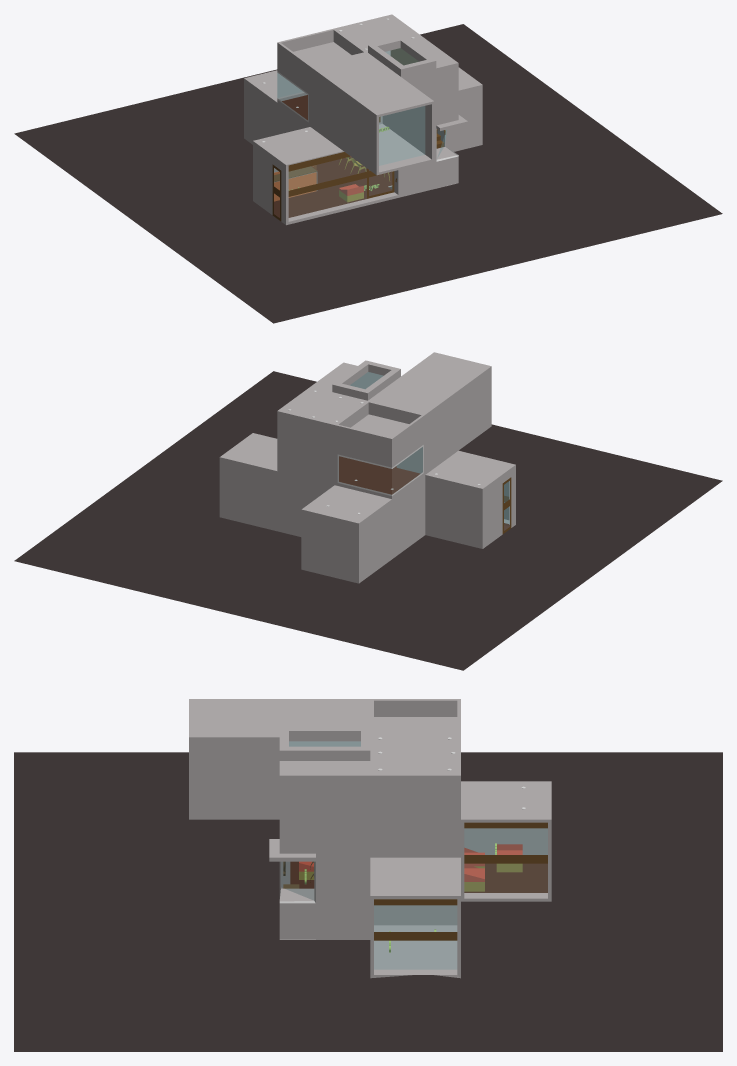
The model's file is simple_box_house.glb.
3 views of the same model, one above another, from view 1: azimuth 30°, elevation 25°; view 2: azimuth 150°, elevation 25°; view 3: azimuth 270°, elevation 25° (orthographic). The views are drawn at different scales.
Parts seen in each view (by area): view 1: Cube.001; view 2: Cube.001; view 3: Cube.001.
Part boxes in pixels (bbox=[...]): Cube.001: bbox=[14, 14, 722, 323]; Cube.001: bbox=[14, 352, 722, 670]; Cube.001: bbox=[14, 699, 722, 1051].
Size of the model in its own units: 782 by 213 by 782.
